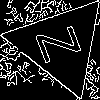Z: (35, 20, 92, 64)
